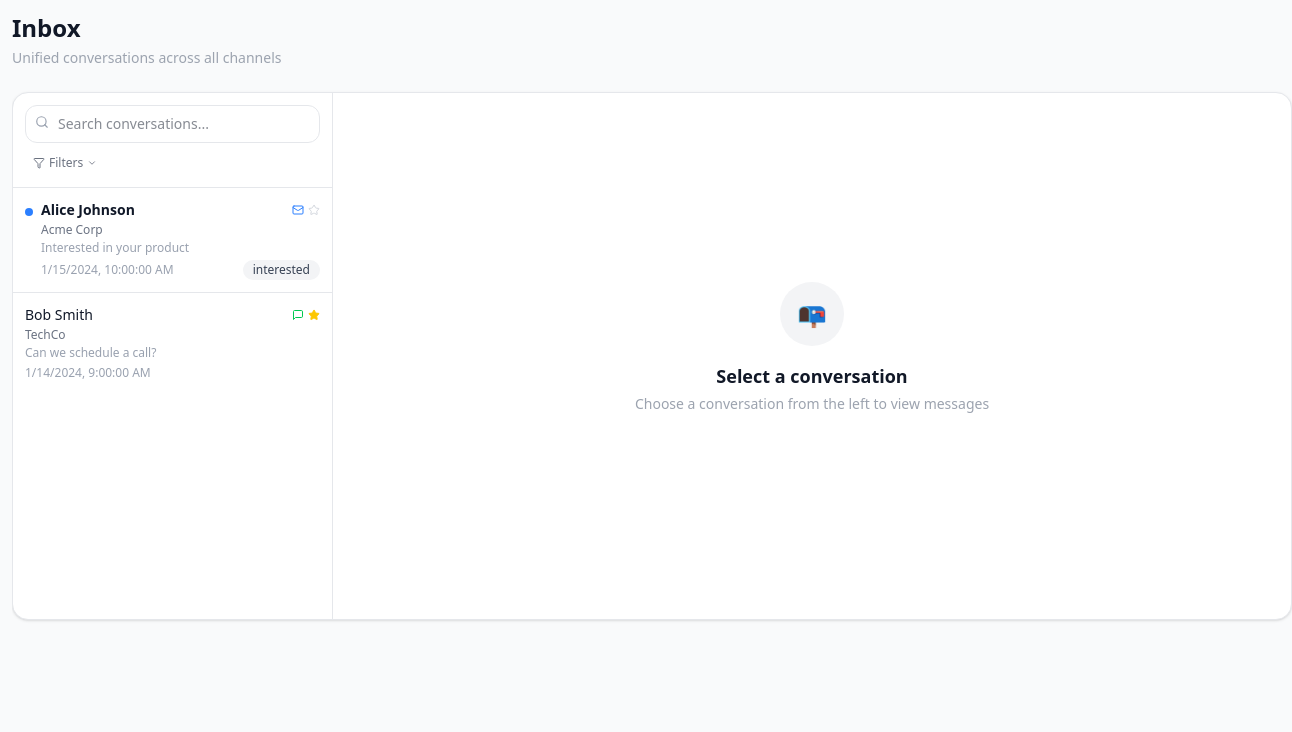
it: UnifiedInbox › filters conversations by search text
Step 1. Type "Alice" into the field with test id "conversation-search" → (172, 124), box x1=25 y1=105 x2=320 y2=143
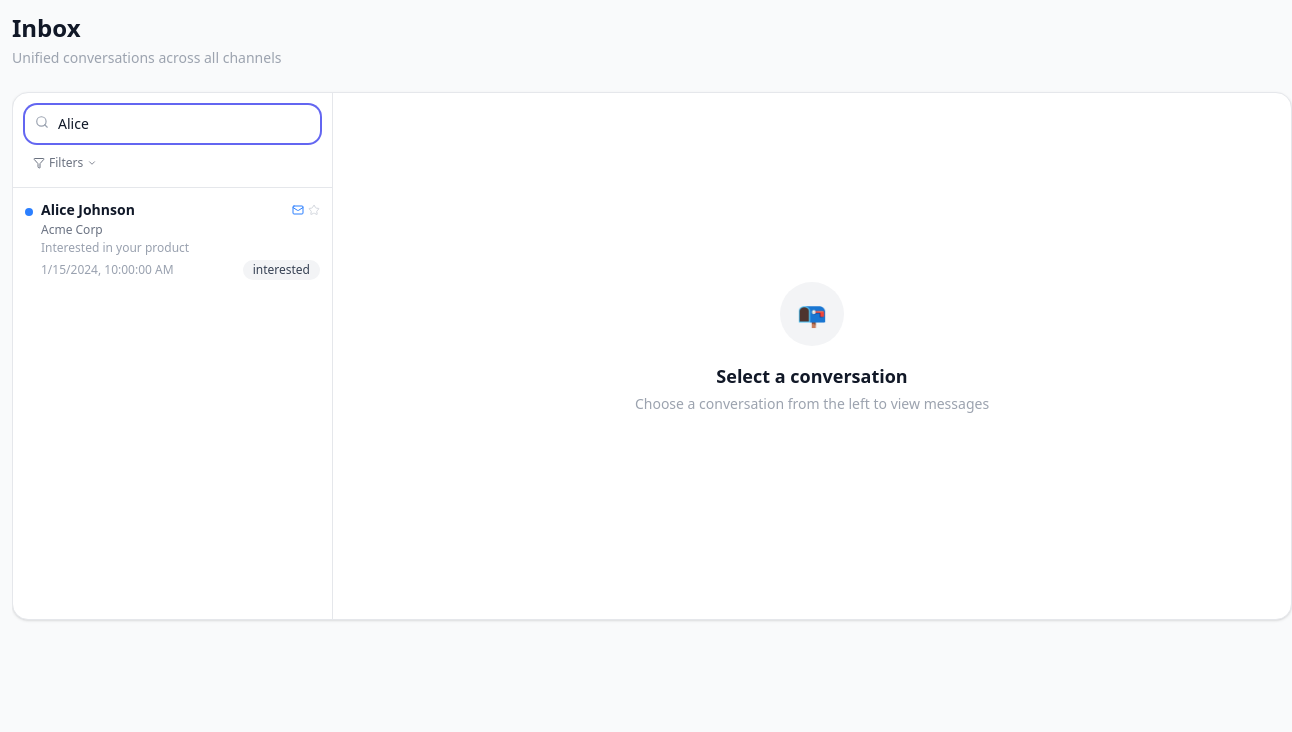
Expected: the text "Alice Johnson" is shown, x1=41 y1=200 x2=135 y2=220
Now the button "Bob Smith" is gone
